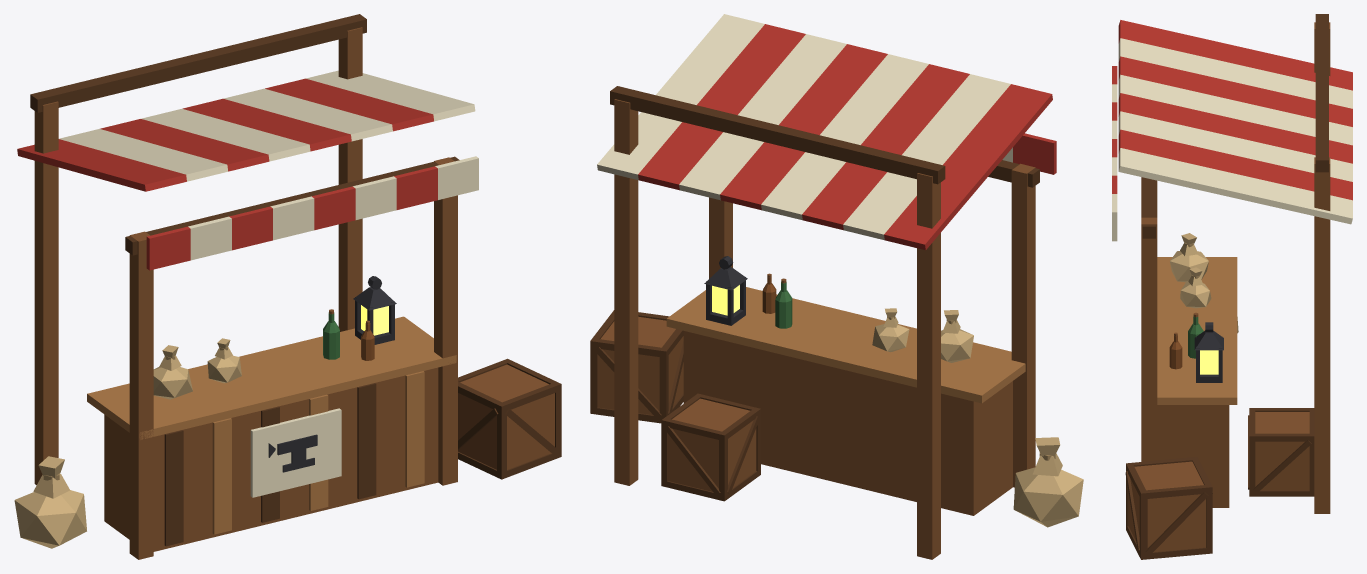
The model's file is Market_Stall.fbx.
3 views of the same model, side by side, from view 1: azimuth 30°, elevation 25°; view 2: azimuth 150°, elevation 25°; view 3: azimuth 270°, elevation 25° (orthographic). The views are drawn at different scales.
Parts seen in each view (by area): view 1: Market_Stall; view 2: Market_Stall; view 3: Market_Stall.
Boxes of the visible parts, bbox=[...] form: Market_Stall: bbox=[14, 14, 561, 559]; Market_Stall: bbox=[590, 14, 1083, 559]; Market_Stall: bbox=[1112, 14, 1352, 559].
Size of the model in its own units: 3.98 by 2.98 by 1.81.
